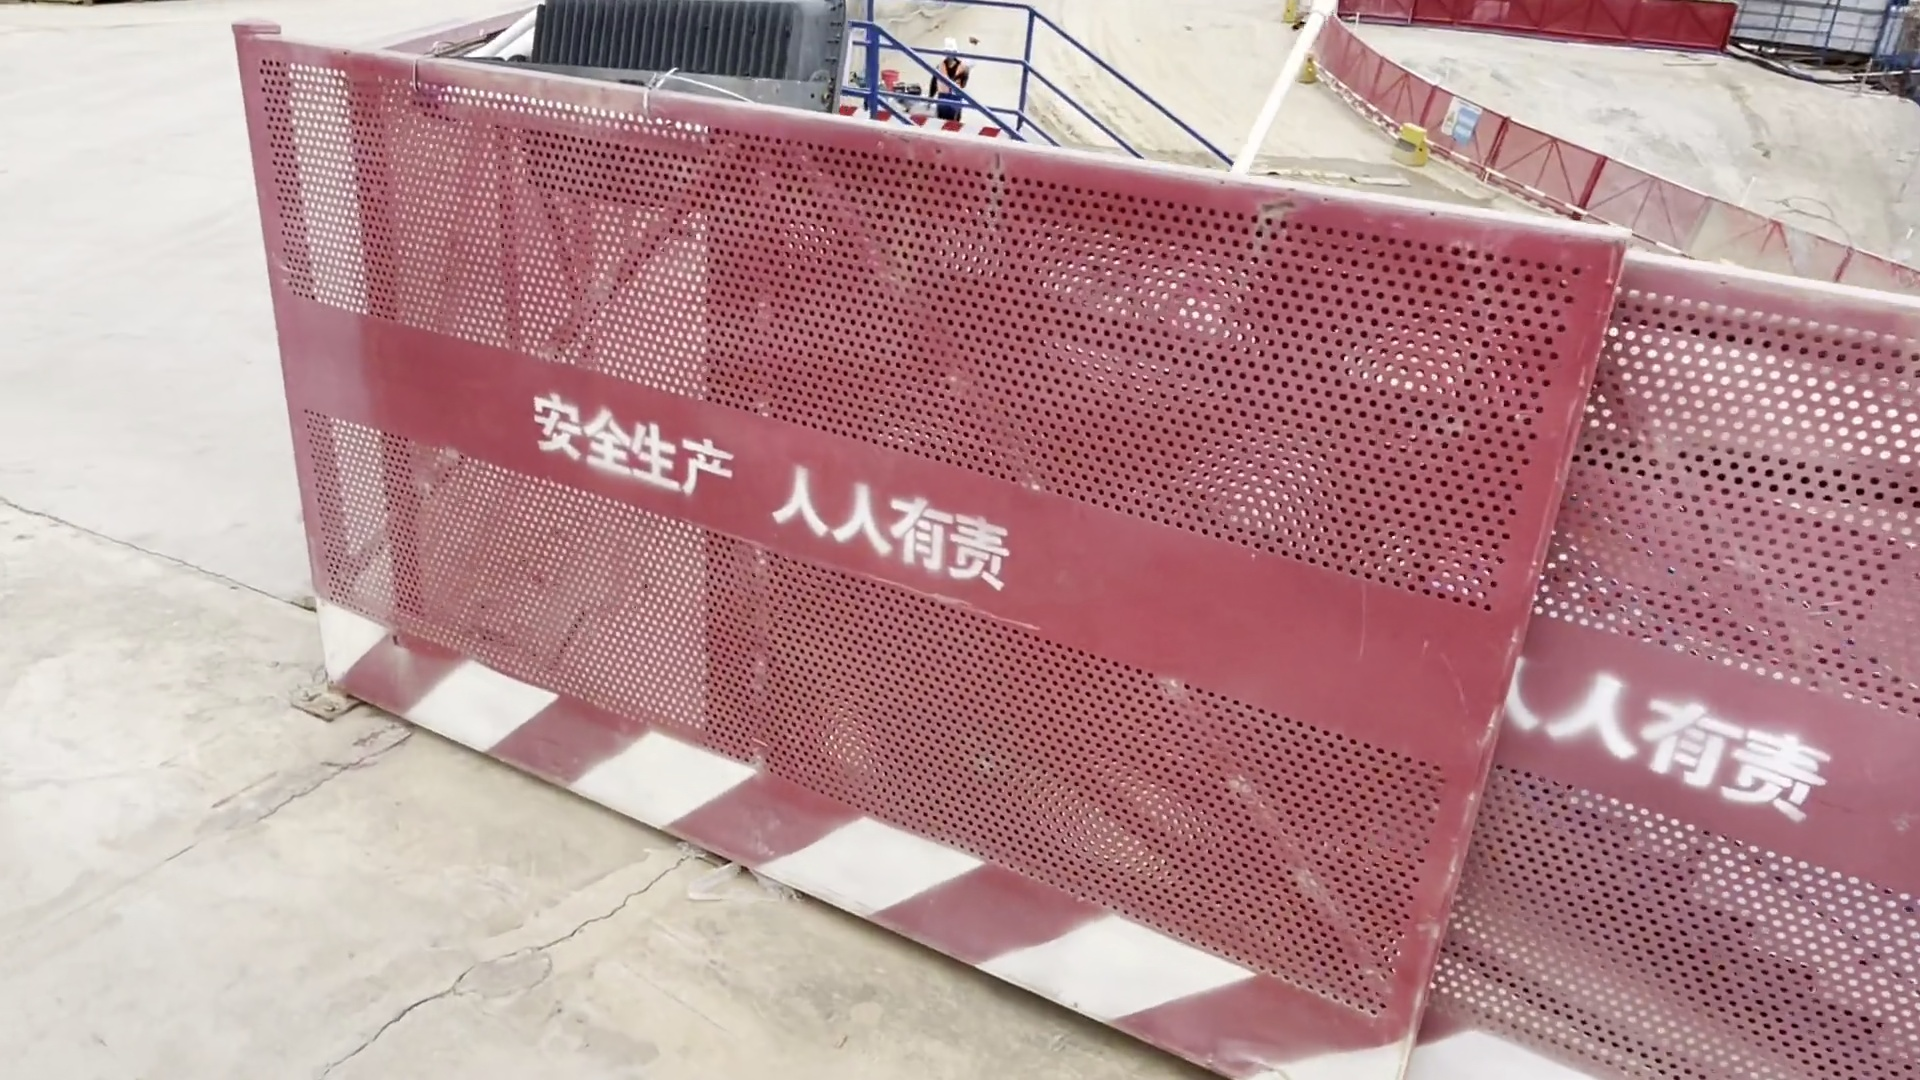fence: (215, 20, 1859, 1054)
